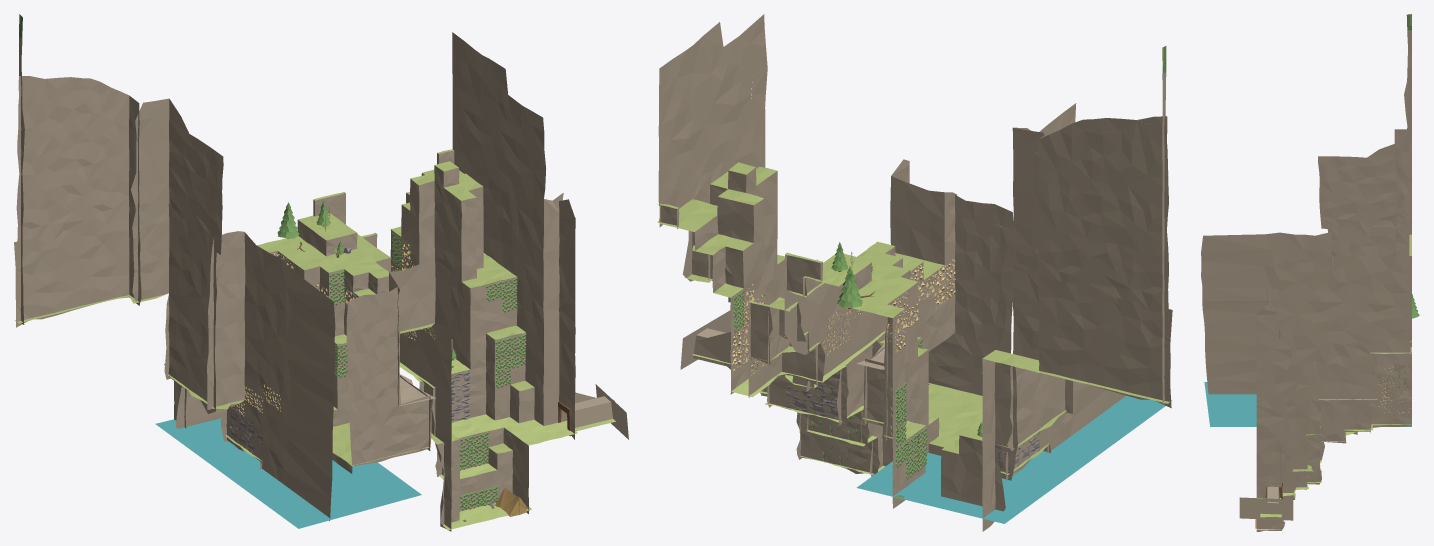
3 views of the same model, side by side, from view 1: azimuth 30°, elevation 25°; view 2: azimuth 150°, elevation 25°; view 3: azimuth 270°, elevation 25° (orthographic). The views are drawn at different scales.
Parts seen in each view (by area): view 1: 5; view 2: 5; view 3: 5.
Boxes of the visible parts, <box> form: 5: <box>14,14,628,531</box>; 5: <box>657,14,1172,531</box>; 5: <box>1201,14,1419,531</box>.
Size of the model in its own units: 32.98 by 32.18 by 16.95.
1 material, 1 textured.
